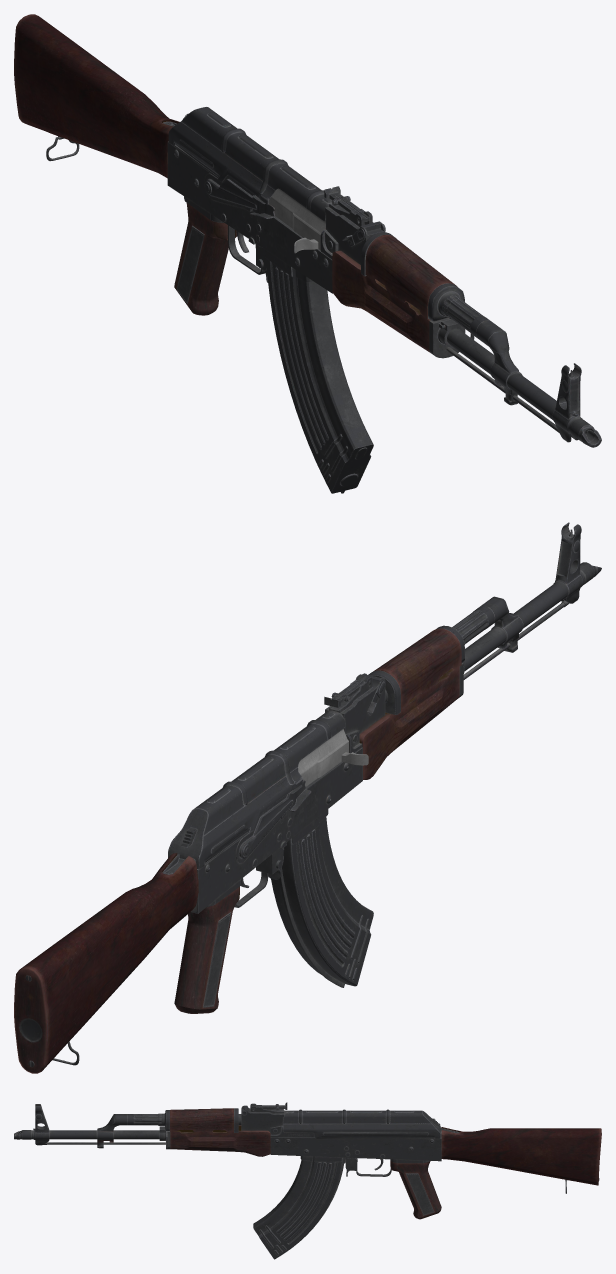
The picture shows the model from 3 angles, top to bottom: view 1: azimuth 30°, elevation 25°; view 2: azimuth 150°, elevation 25°; view 3: azimuth 270°, elevation 25°; orthographic projection. The views are drawn at different scales.
Visible parts, largest first — view 1: Body, Magazine, Bolt; view 2: Body, Magazine, Bolt; view 3: Body, Magazine, Bolt.
Part boxes in pixels (<box>): Body: <box>14,14,601,447</box>; Magazine: <box>265,249,373,493</box>; Bolt: <box>268,188,338,259</box>; Body: <box>14,522,601,1073</box>; Magazine: <box>271,809,373,987</box>; Bolt: <box>289,729,368,793</box>; Body: <box>14,1102,601,1219</box>; Magazine: <box>253,1156,345,1259</box>; Bolt: <box>270,1125,314,1137</box>.
Size of the model in its own units: 0.0707 by 0.3184 by 1.1.
Materials: 1 (1 with a texture image).
